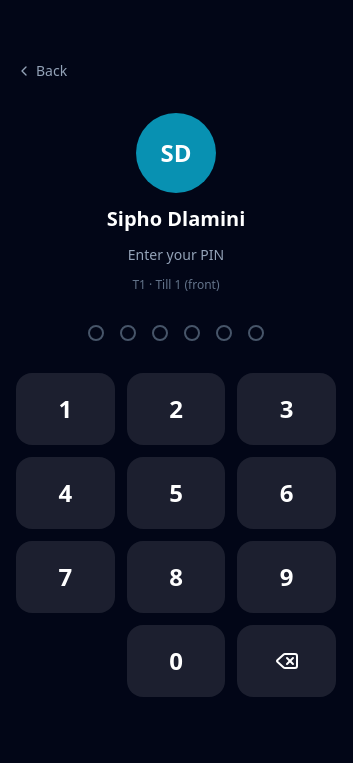
Scenario: signing in on a till with a shift › someone else gets TILL_LOCKED, and the till status is read again
Earlier steps of the test are not shown.
Click the button "1": (65,409) [16, 373, 115, 445]
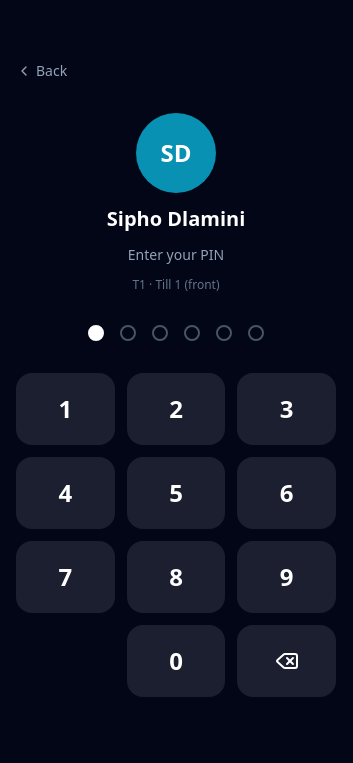
Click the button "2": (176,409) [127, 373, 225, 445]
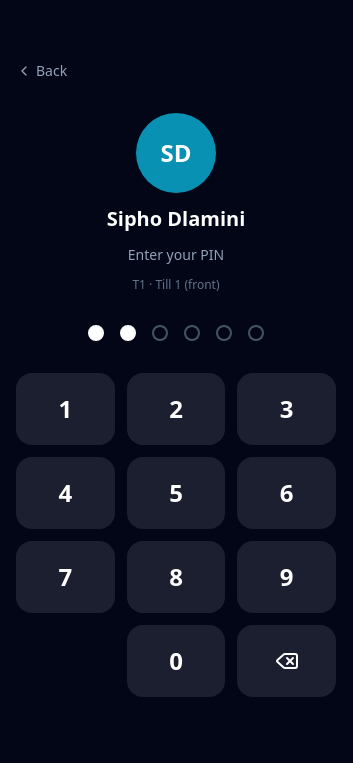
Click the button "3": (287,409) [237, 373, 336, 445]
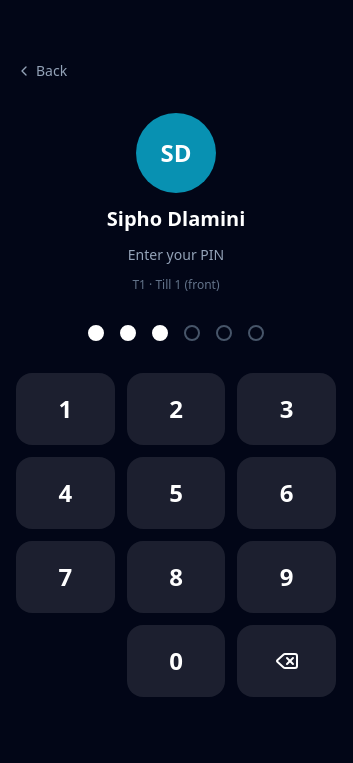
Click the button "4": (65,493) [16, 457, 115, 529]
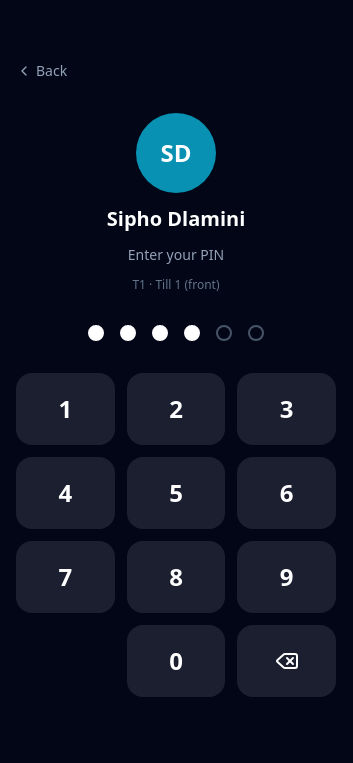
Click the button "5": (176,493) [127, 457, 225, 529]
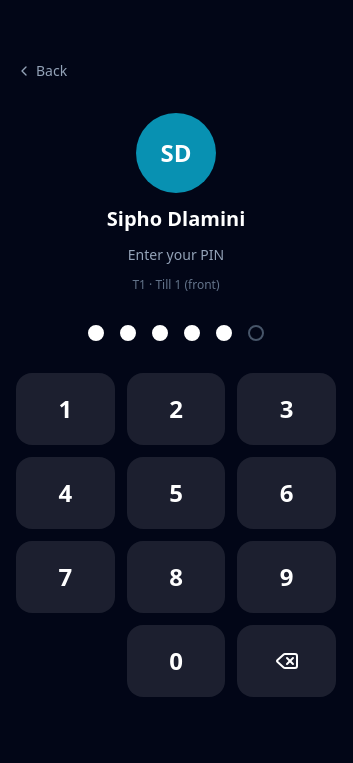
Click the button "6": (287,493) [237, 457, 336, 529]
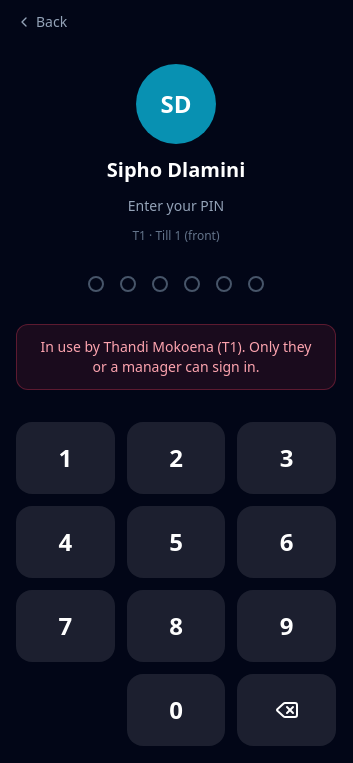
Now the text "In use by Thandi Mokoena (T1). Only they or a manager can sign in." is shown, box [16, 324, 336, 390]
